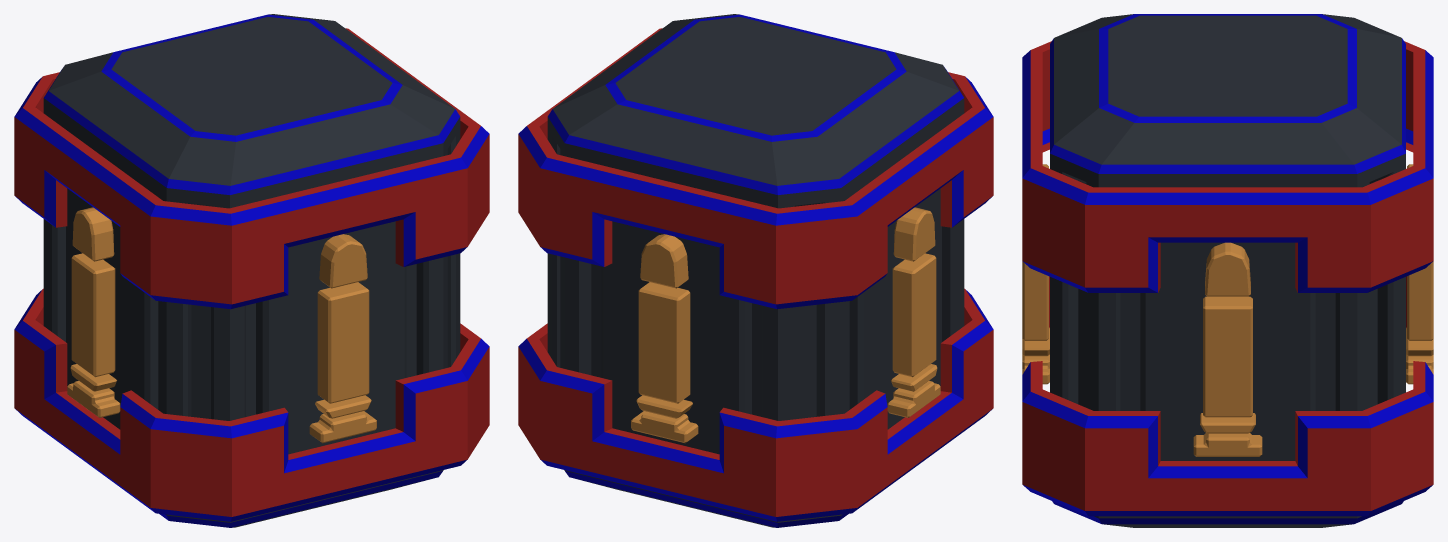
Rendered from AirDrop_Bullet.fbx.
The picture shows the model from 3 angles, left to right: view 1: azimuth 30°, elevation 25°; view 2: azimuth 150°, elevation 25°; view 3: azimuth 270°, elevation 25°; orthographic projection. The views are drawn at different scales.
Visible parts, largest first — view 1: Cube; view 2: Cube; view 3: Cube.
Boxes of the visible parts, box(x1,y1,x2,y2) form: Cube: box(14, 14, 489, 527); Cube: box(518, 14, 993, 527); Cube: box(1022, 14, 1433, 527).
Size of the model in its own units: 859 by 943 by 859.
